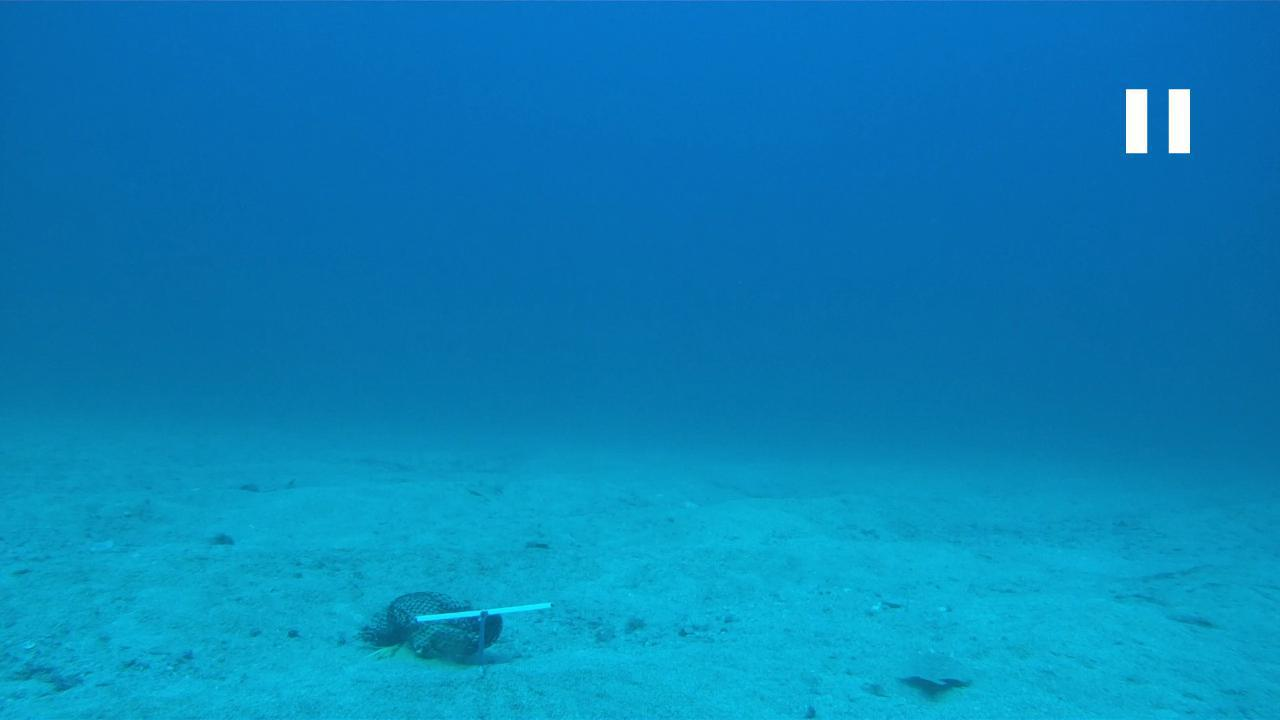bothus: (881, 639, 974, 700)
